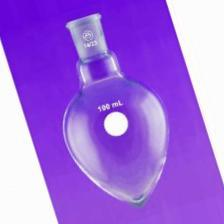Pear shaped flask: (45, 20, 176, 202)
